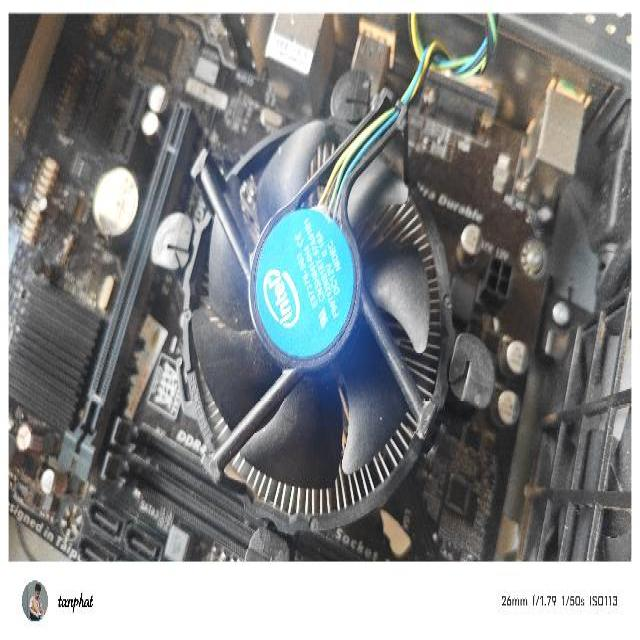CPU_Fan: (150, 67, 494, 568)
Mainboard: (9, 16, 547, 563)
